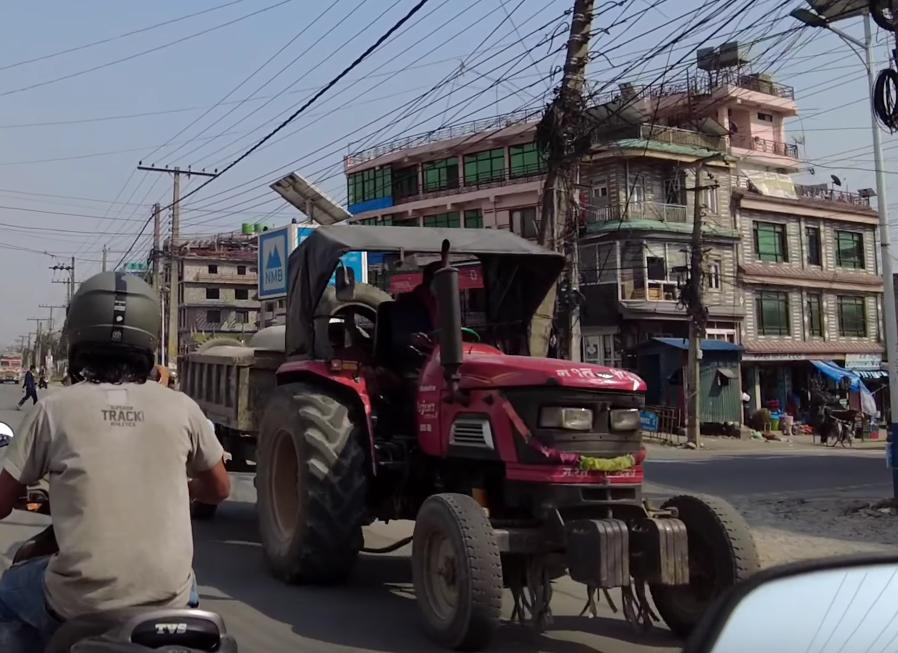tractor: (247, 193, 769, 644)
truck: (0, 350, 24, 387)
